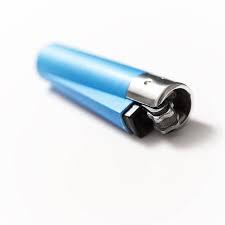lighter: (36, 40, 192, 140)
